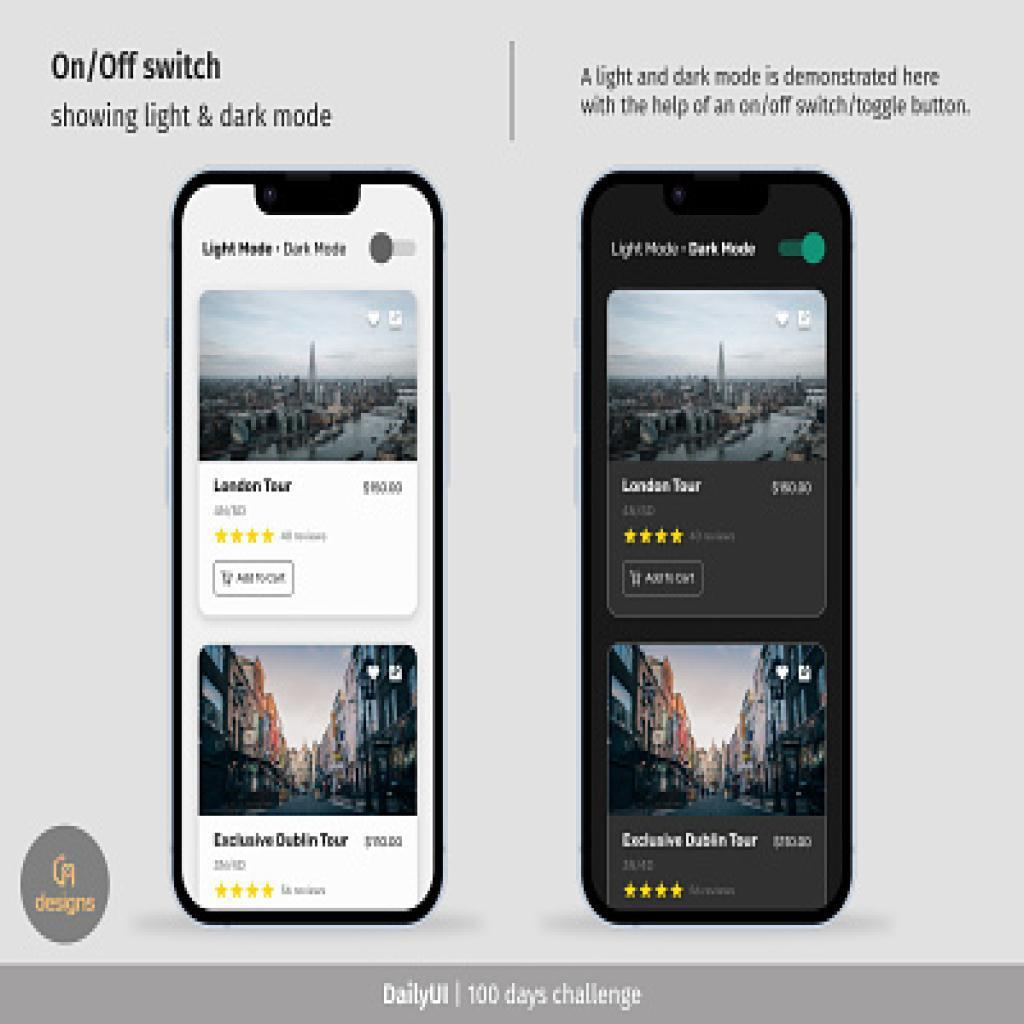button: (212, 560, 295, 597), (627, 564, 704, 600)
switch: (369, 231, 420, 268), (779, 234, 828, 267)
